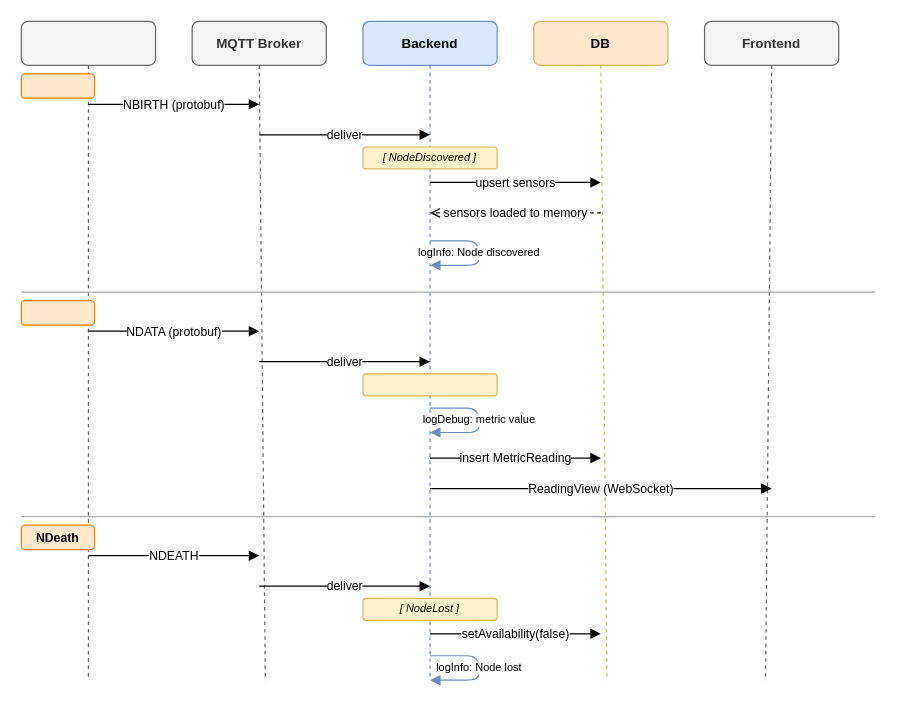
This 898x711 diagram has some shape labels left out. Each missing label, with the box of its shape:
[ MetricReceived ]: (362, 373, 497, 396)
NBirth: (20, 73, 95, 98)
NData: (20, 300, 95, 325)
Simulator: (20, 20, 156, 65)
